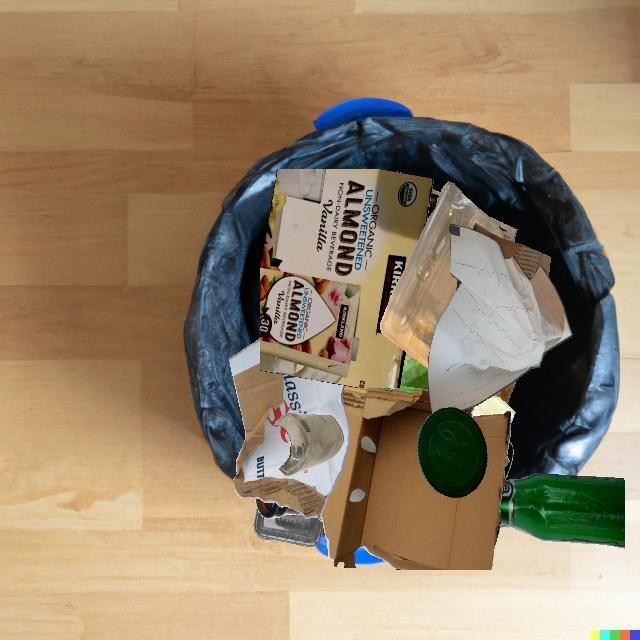biowaste: (428, 369, 507, 456), (400, 351, 428, 390), (493, 380, 516, 404)
cardboard: (260, 169, 434, 388), (321, 385, 510, 570), (229, 338, 349, 519), (472, 223, 550, 279)
glass: (500, 473, 625, 548), (274, 413, 344, 476), (255, 498, 302, 519), (504, 441, 514, 479)
paper: (428, 224, 573, 414), (437, 193, 495, 222), (487, 216, 517, 242)
plastic: (380, 181, 504, 369), (417, 407, 488, 498), (253, 507, 324, 547)
